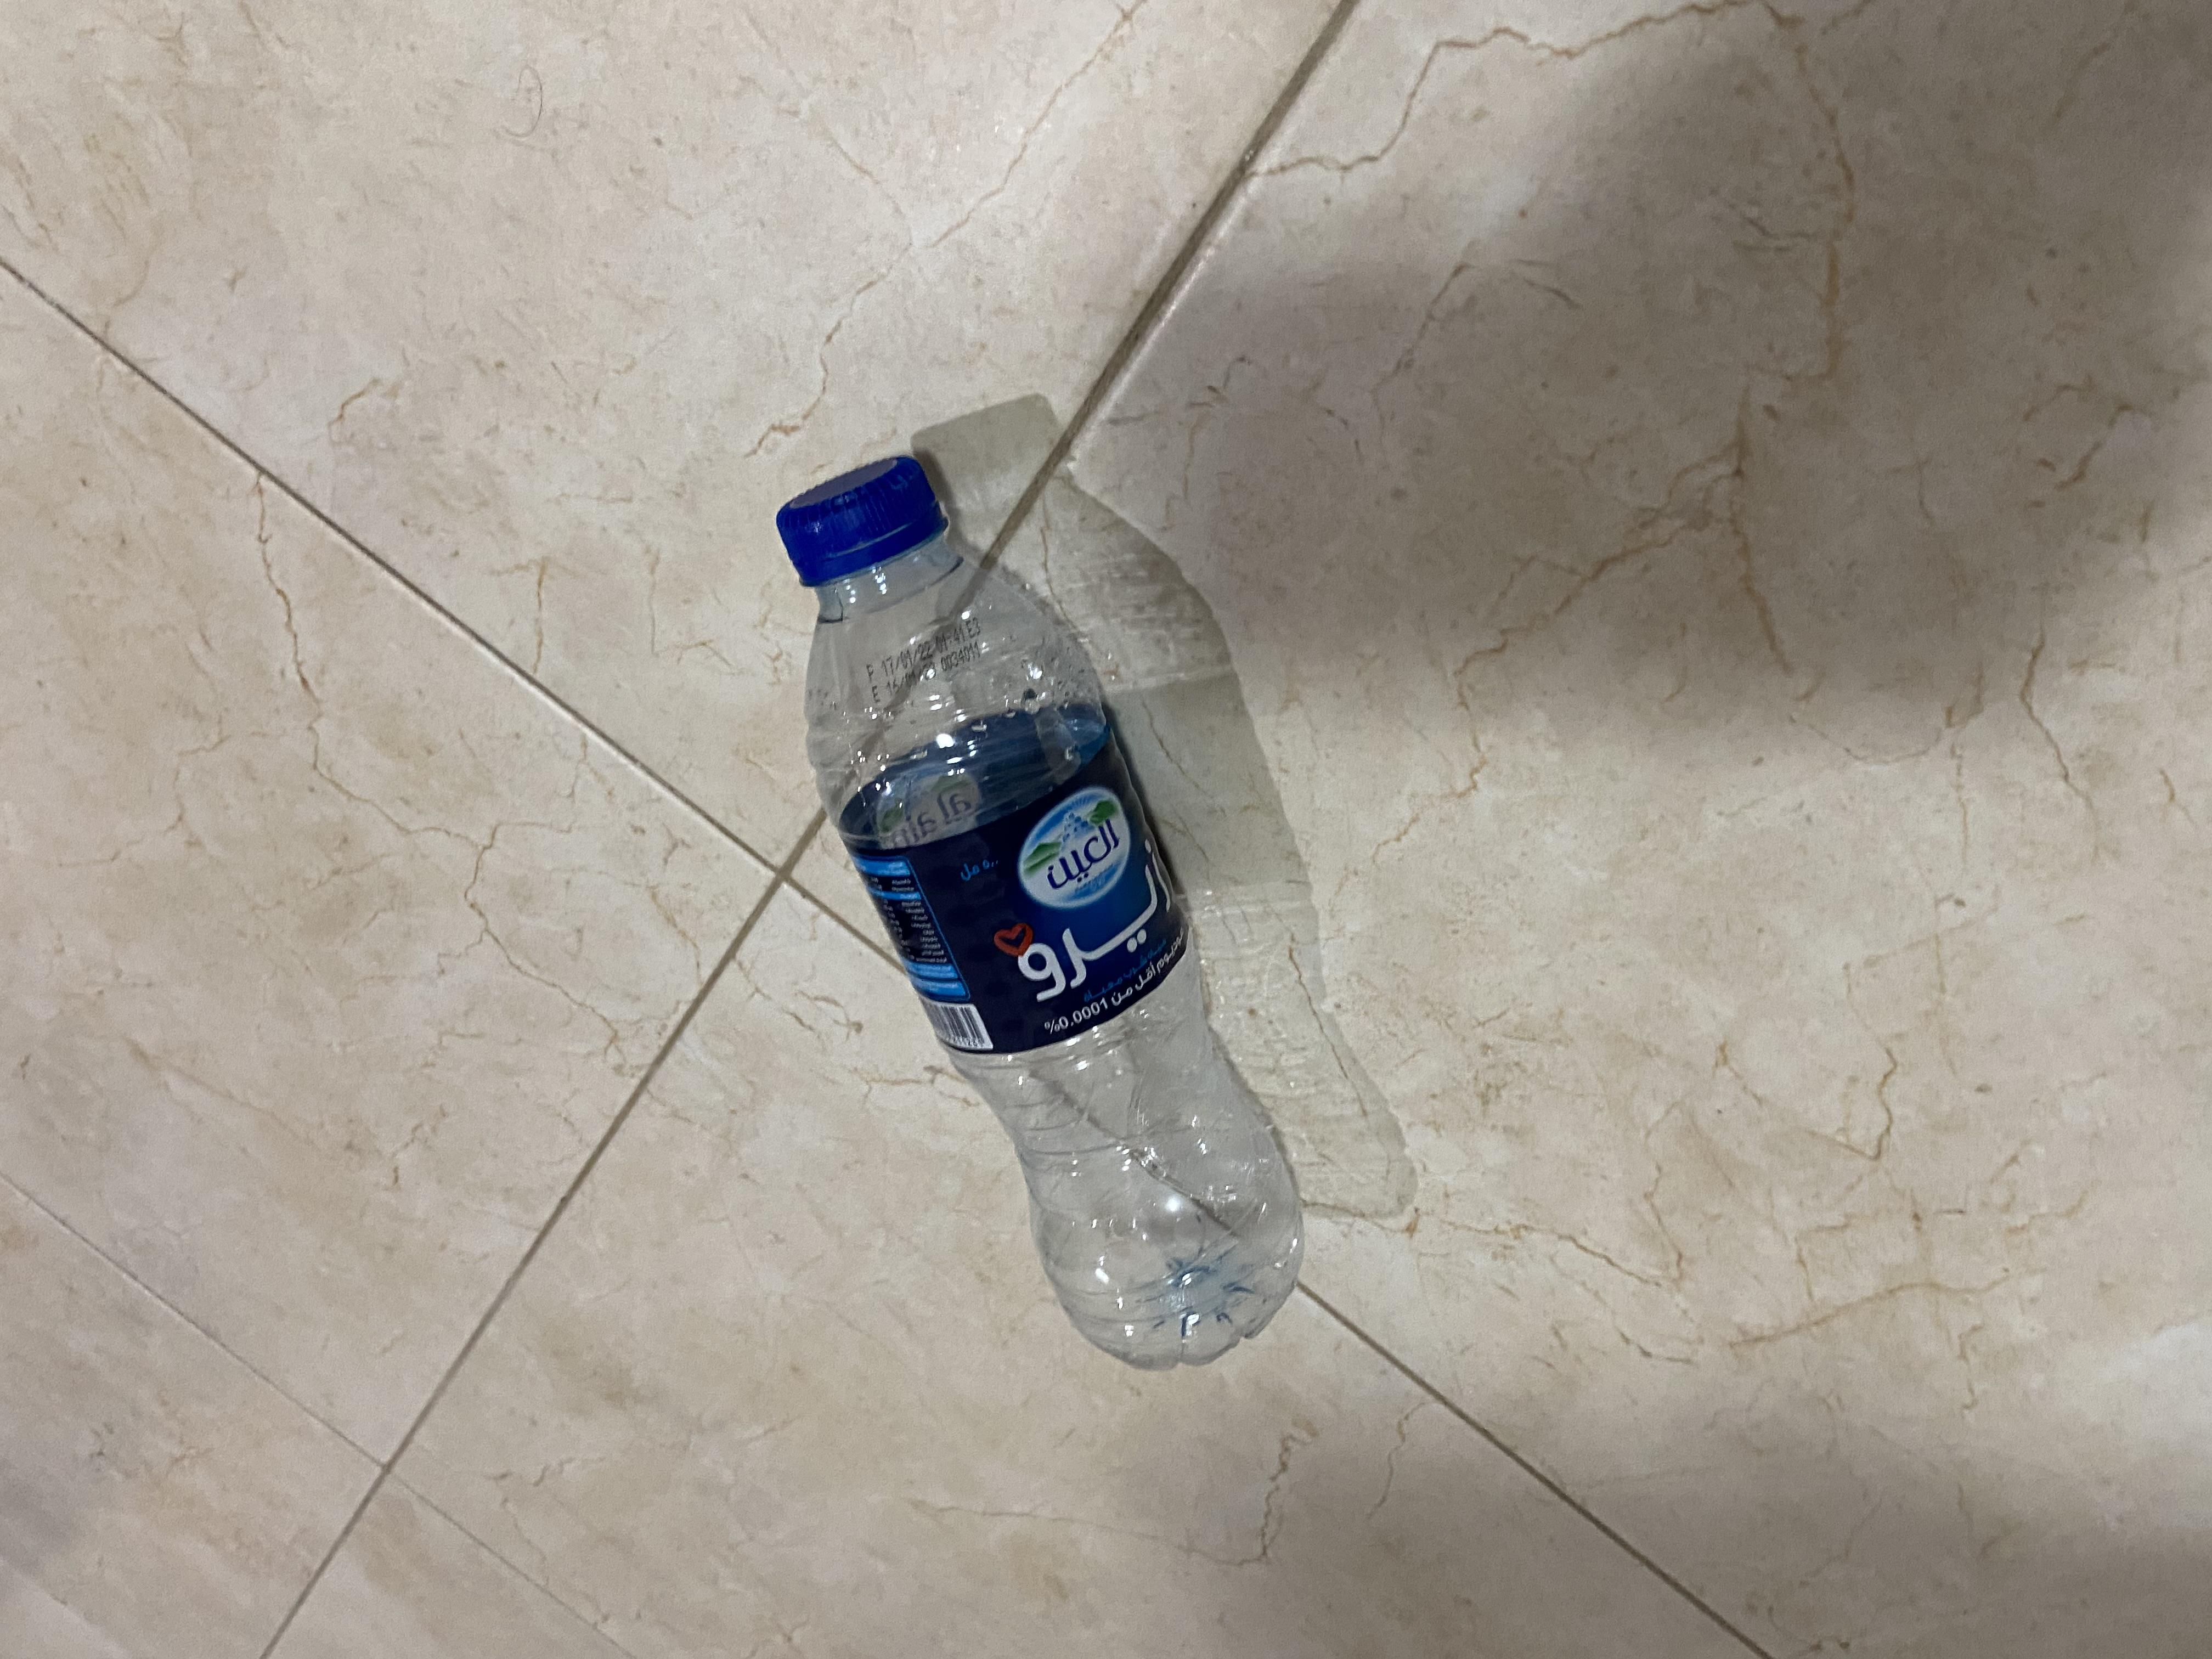bottle: (371, 552, 1649, 1026)
